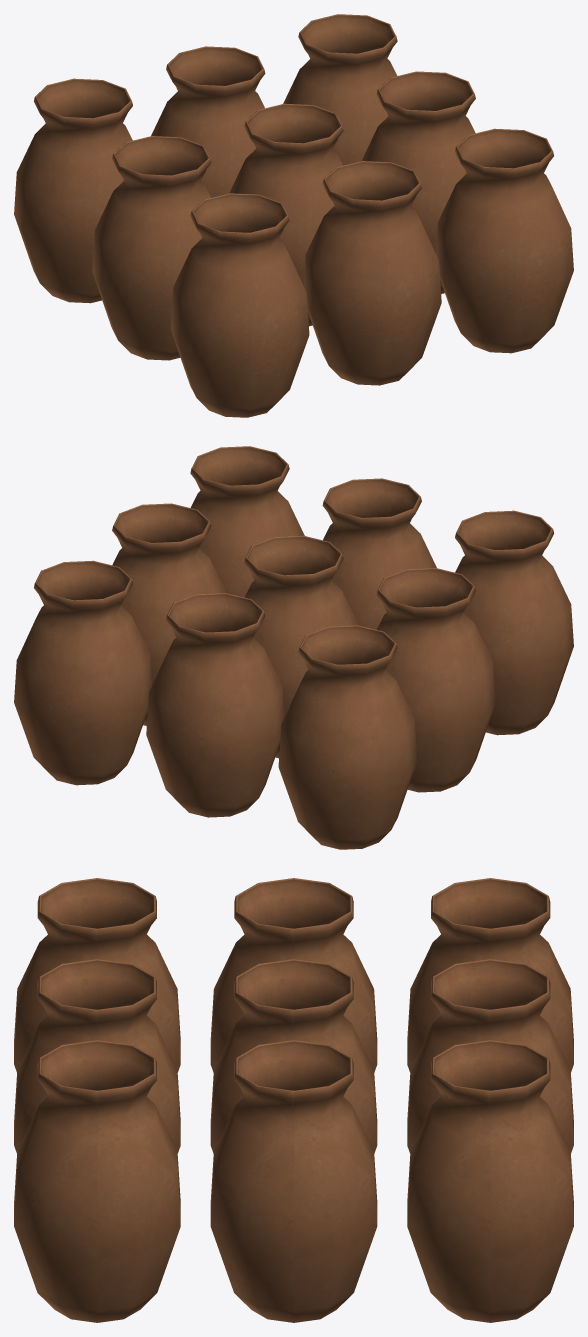
The model's file is PotteryJar4_Group.fbx.
3 renders of one model, top to bottom at view 1: azimuth 30°, elevation 25°; view 2: azimuth 150°, elevation 25°; view 3: azimuth 270°, elevation 25°, orthographic. The views are drawn at different scales.
Visible parts, largest first — view 1: PotteryJar4_7, PotteryJar4_6, PotteryJar4_8, PotteryJar4_, PotteryJar4_4, PotteryJar4_3, PotteryJar4_5, PotteryJar4_2, PotteryJar4_1; view 2: PotteryJar4_, PotteryJar4_2, PotteryJar4_1, PotteryJar4_7, PotteryJar4_4, PotteryJar4_3, PotteryJar4_5, PotteryJar4_6, PotteryJar4_8; view 3: PotteryJar4_3, PotteryJar4_2, PotteryJar4_6, PotteryJar4_5, PotteryJar4_4, PotteryJar4_, PotteryJar4_7, PotteryJar4_1, PotteryJar4_8.
Boxes of the visible parts, <box> form: PotteryJar4_7: <box>170,193,309,417</box>; PotteryJar4_6: <box>435,128,573,353</box>; PotteryJar4_8: <box>303,161,441,385</box>; PotteryJar4_: <box>14,78,132,303</box>; PotteryJar4_4: <box>92,136,211,360</box>; PotteryJar4_3: <box>361,71,475,293</box>; PotteryJar4_5: <box>229,103,343,326</box>; PotteryJar4_2: <box>283,14,397,165</box>; PotteryJar4_1: <box>151,46,265,197</box>; PotteryJar4_: <box>278,625,417,849</box>; PotteryJar4_2: <box>14,560,152,785</box>; PotteryJar4_1: <box>146,593,284,817</box>; PotteryJar4_7: <box>455,510,573,735</box>; PotteryJar4_4: <box>376,568,495,792</box>; PotteryJar4_3: <box>112,503,226,725</box>; PotteryJar4_5: <box>244,535,358,758</box>; PotteryJar4_6: <box>190,446,304,597</box>; PotteryJar4_8: <box>322,478,436,629</box>; PotteryJar4_3: <box>210,1040,377,1322</box>; PotteryJar4_2: <box>407,1040,573,1322</box>; PotteryJar4_6: <box>14,1040,180,1322</box>; PotteryJar4_5: <box>210,959,377,1153</box>; PotteryJar4_4: <box>210,878,377,1072</box>; PotteryJar4_: <box>407,878,573,1072</box>; PotteryJar4_7: <box>14,878,180,1072</box>; PotteryJar4_1: <box>407,959,573,1153</box>; PotteryJar4_8: <box>14,959,180,1153</box>.
Size of the model in its own units: 42.49 by 20.09 by 42.57.
